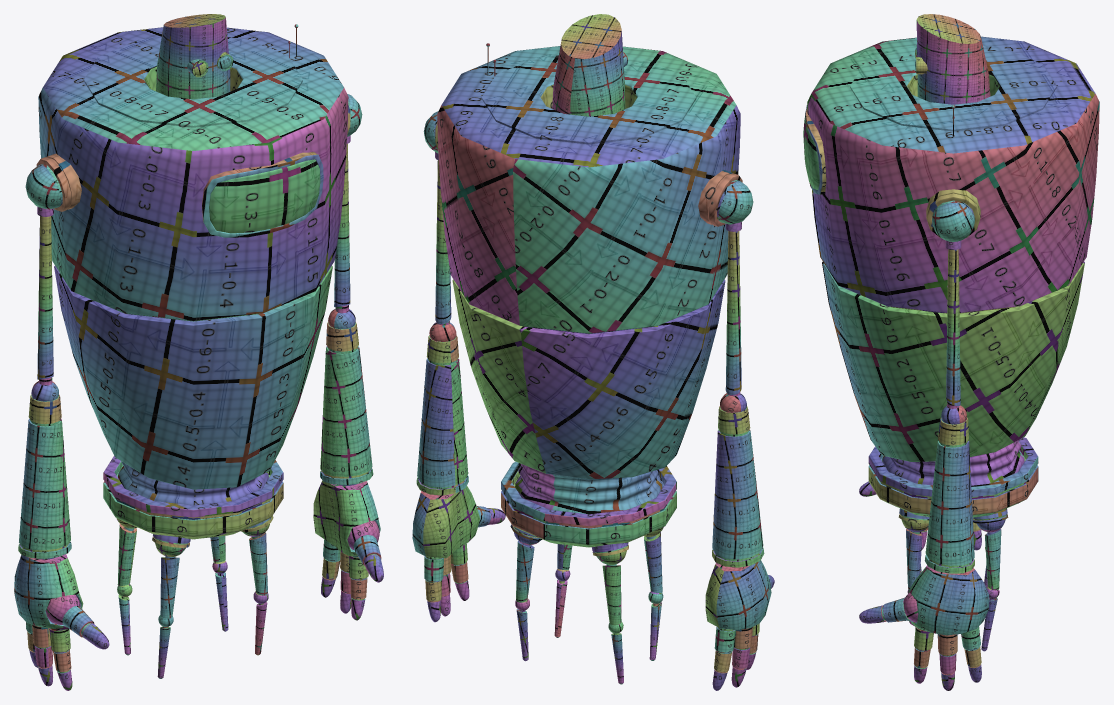
Rendered from UV Robot Excersize.fbx.
The picture shows the model from 3 angles, left to right: view 1: azimuth 30°, elevation 25°; view 2: azimuth 150°, elevation 25°; view 3: azimuth 270°, elevation 25°; orthographic projection. The views are drawn at different scales.
Parts seen in each view (by area): view 1: Torso_Geo, R_Elbow_Geo, Hip_Geo, R_Elbow_Geo1, Head_Geo, R_Shoulder_Geo, R_Hand_Geo, R_Hand_Geo1, Spine_Geo, R_Shoulder_Geo1, R_FT_Thigh_Geo, R_Finger_01_Joint_01_Geo (+7 smaller); view 2: Torso_Geo, Hip_Geo, R_Elbow_Geo, R_Elbow_Geo1, Head_Geo, Spine_Geo, R_Hand_Geo, R_Hand_Geo1, R_Shoulder_Geo, R_Shoulder_Geo1, R_FT_Thigh_Geo3, R_FT_Thigh_Geo2 (+5 smaller); view 3: Torso_Geo, R_Elbow_Geo1, Head_Geo, Hip_Geo, R_Hand_Geo1, R_Shoulder_Geo1, Spine_Geo, R_FT_Thigh_Geo2, R_FT_Thigh_Geo1, R_Finger_01_Joint_01_Geo1, R_FT_Knee_Geo2.
Part boxes in pixels (left/top/right/bottom): Torso_Geo: left=36, top=24, right=350, bottom=489; R_Elbow_Geo: left=18, top=381, right=71, bottom=558; Hip_Geo: left=103, top=456, right=283, bottom=547; R_Elbow_Geo1: left=320, top=308, right=373, bottom=485; Head_Geo: left=156, top=14, right=233, bottom=99; R_Shoulder_Geo: left=25, top=164, right=62, bottom=385; R_Hand_Geo: left=14, top=554, right=83, bottom=629; R_Hand_Geo1: left=313, top=480, right=380, bottom=556; Spine_Geo: left=118, top=461, right=268, bottom=505; R_Shoulder_Geo1: left=334, top=94, right=362, bottom=313; R_FT_Thigh_Geo: left=155, top=543, right=185, bottom=618; R_Finger_01_Joint_01_Geo: left=45, top=594, right=94, bottom=637; Torso_Geo: left=435, top=43, right=742, bottom=479; Hip_Geo: left=501, top=462, right=676, bottom=556; R_Elbow_Geo: left=712, top=393, right=764, bottom=567; R_Elbow_Geo1: left=416, top=322, right=468, bottom=495; Head_Geo: left=552, top=14, right=628, bottom=116; Spine_Geo: left=515, top=464, right=662, bottom=514; R_Hand_Geo: left=705, top=560, right=771, bottom=630; R_Hand_Geo1: left=412, top=486, right=479, bottom=558; R_Shoulder_Geo: left=717, top=180, right=753, bottom=396; R_Shoulder_Geo1: left=423, top=111, right=451, bottom=325; R_FT_Thigh_Geo3: left=596, top=550, right=626, bottom=625; R_FT_Thigh_Geo2: left=514, top=532, right=540, bottom=602; Torso_Geo: left=803, top=36, right=1099, bottom=461; R_Elbow_Geo1: left=924, top=405, right=974, bottom=573; Head_Geo: left=915, top=14, right=990, bottom=104; Hip_Geo: left=868, top=437, right=1038, bottom=523; R_Hand_Geo1: left=909, top=565, right=988, bottom=635; R_Shoulder_Geo1: left=932, top=200, right=974, bottom=408; Spine_Geo: left=882, top=440, right=1024, bottom=485; R_FT_Thigh_Geo2: left=976, top=519, right=1005, bottom=590; R_FT_Thigh_Geo1: left=901, top=519, right=928, bottom=589; R_Finger_01_Joint_01_Geo1: left=883, top=592, right=918, bottom=622; R_FT_Knee_Geo2: left=981, top=586, right=999, bottom=651.
Size of the model in its own units: 9.16 by 16.07 by 7.09.
3 materials, 3 textured.
